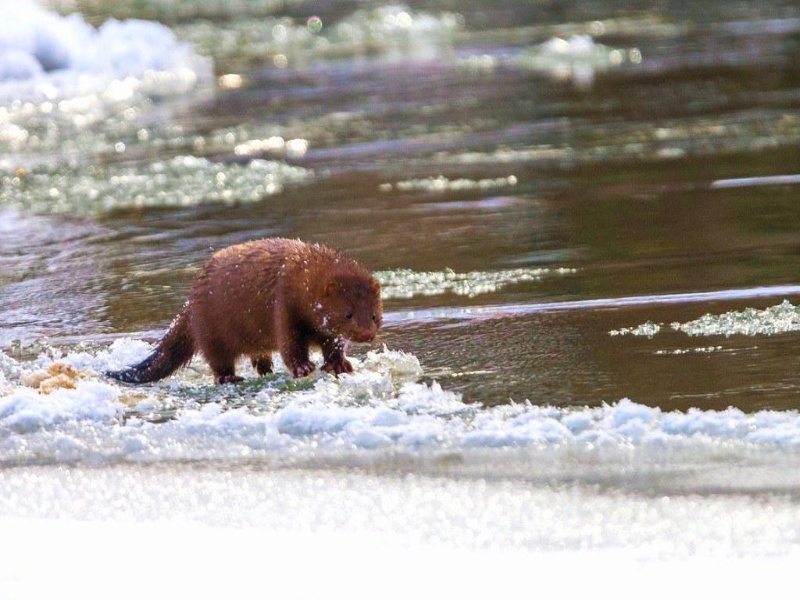minkish: (109, 236, 384, 388)
